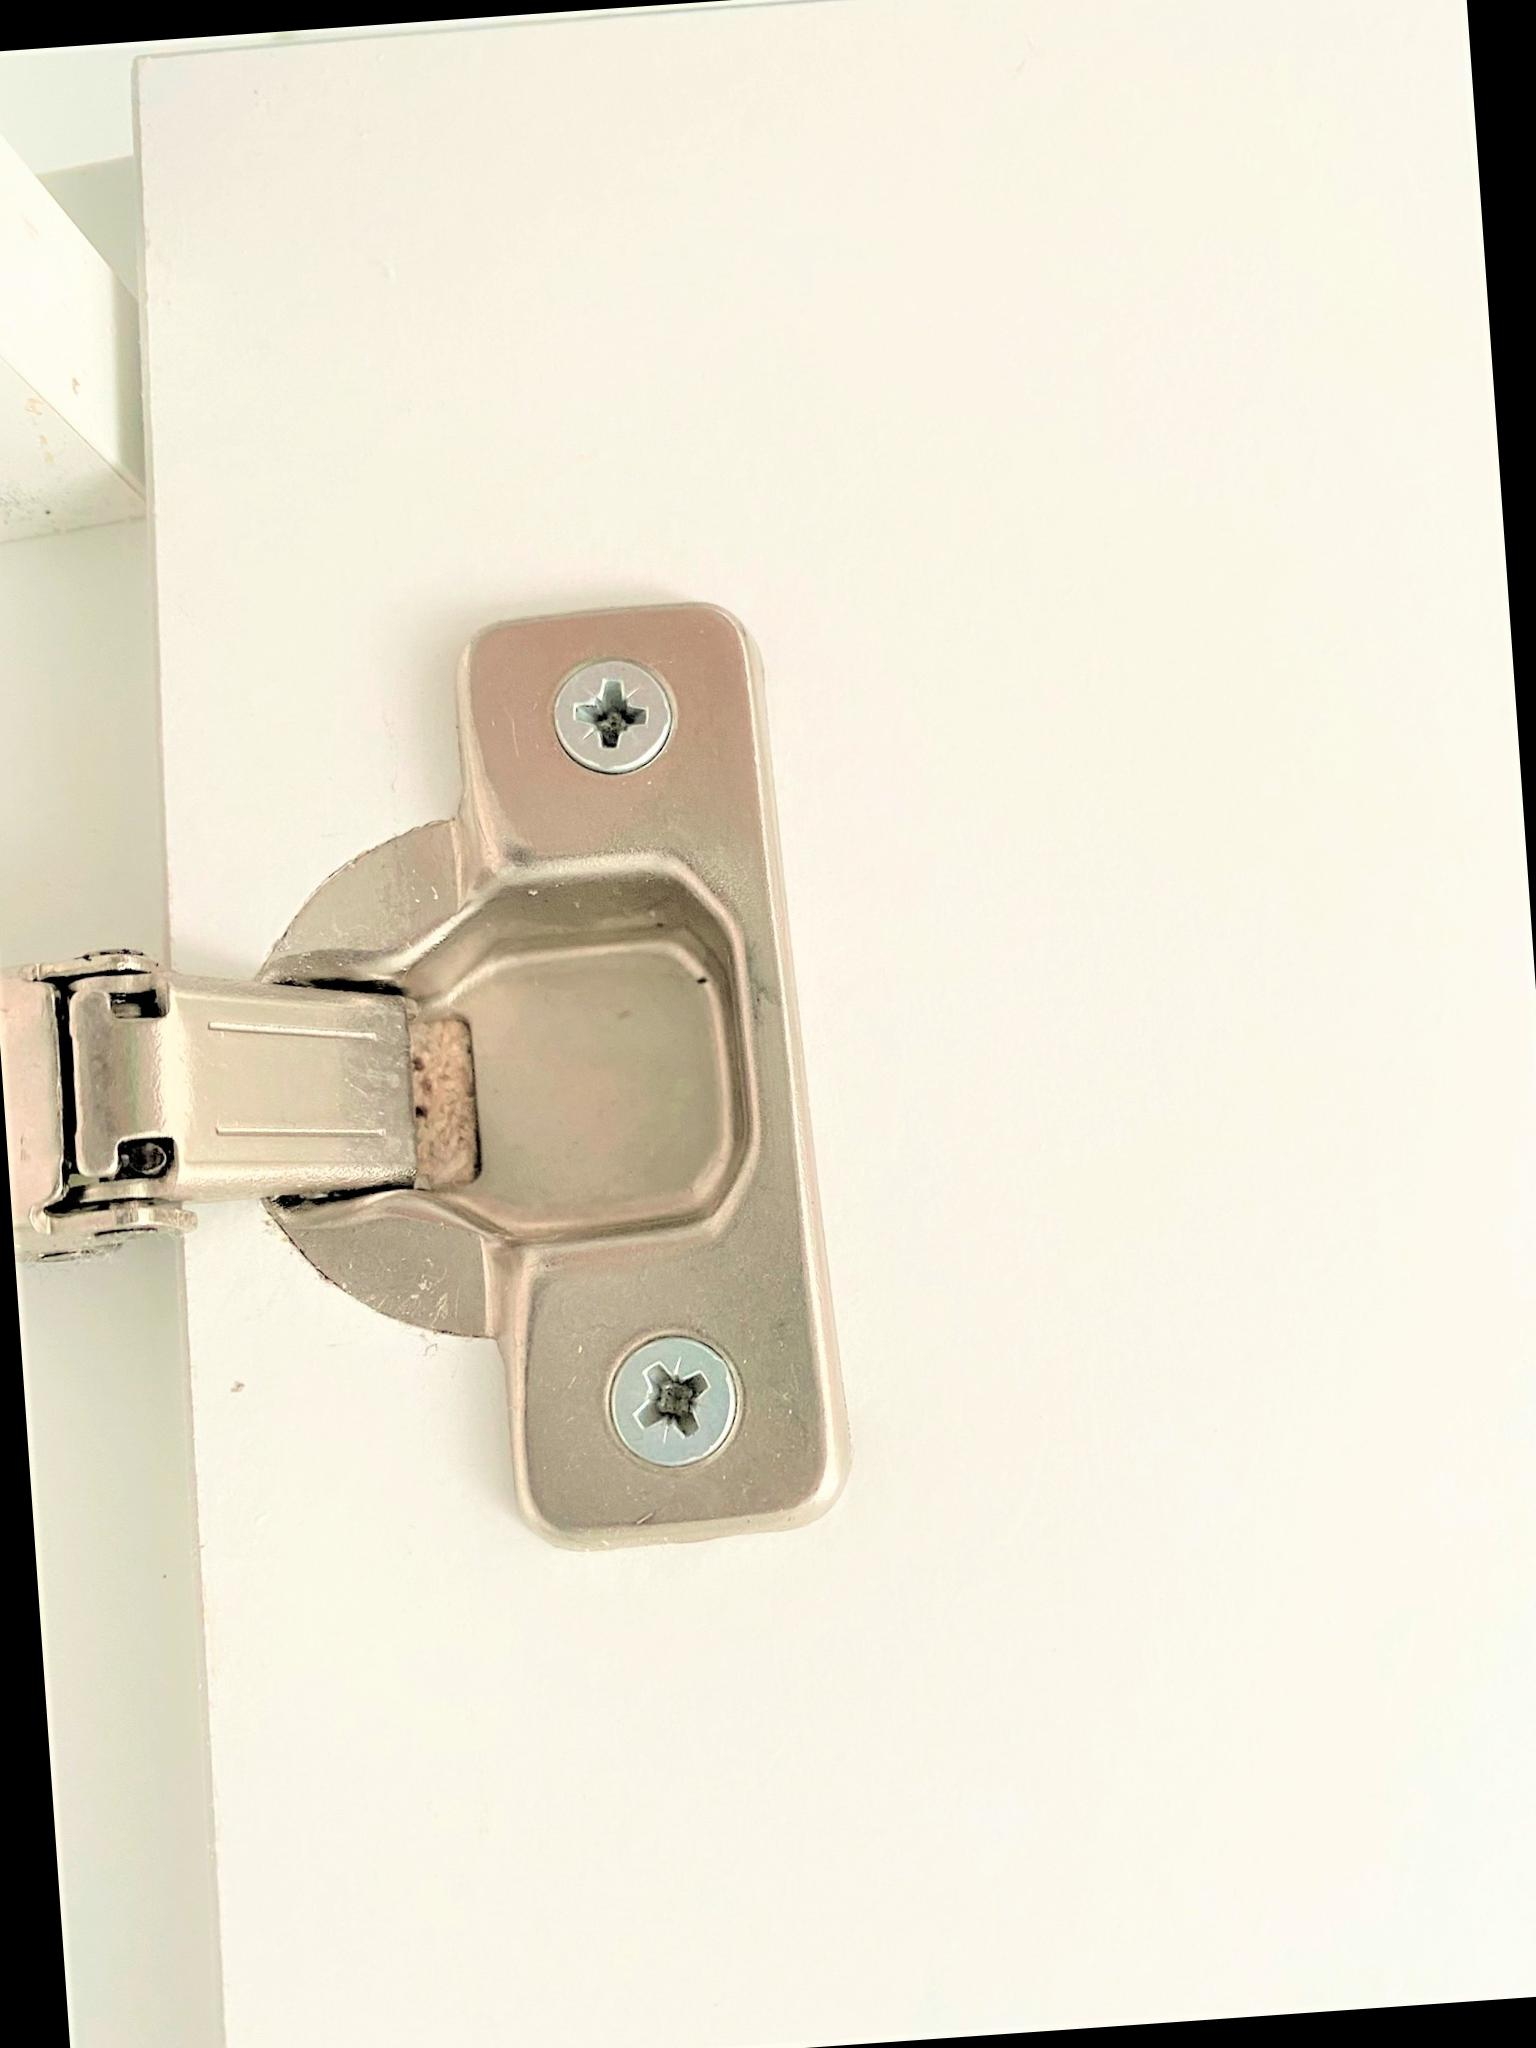PH: (600, 1329, 742, 1474), (544, 650, 678, 777)
